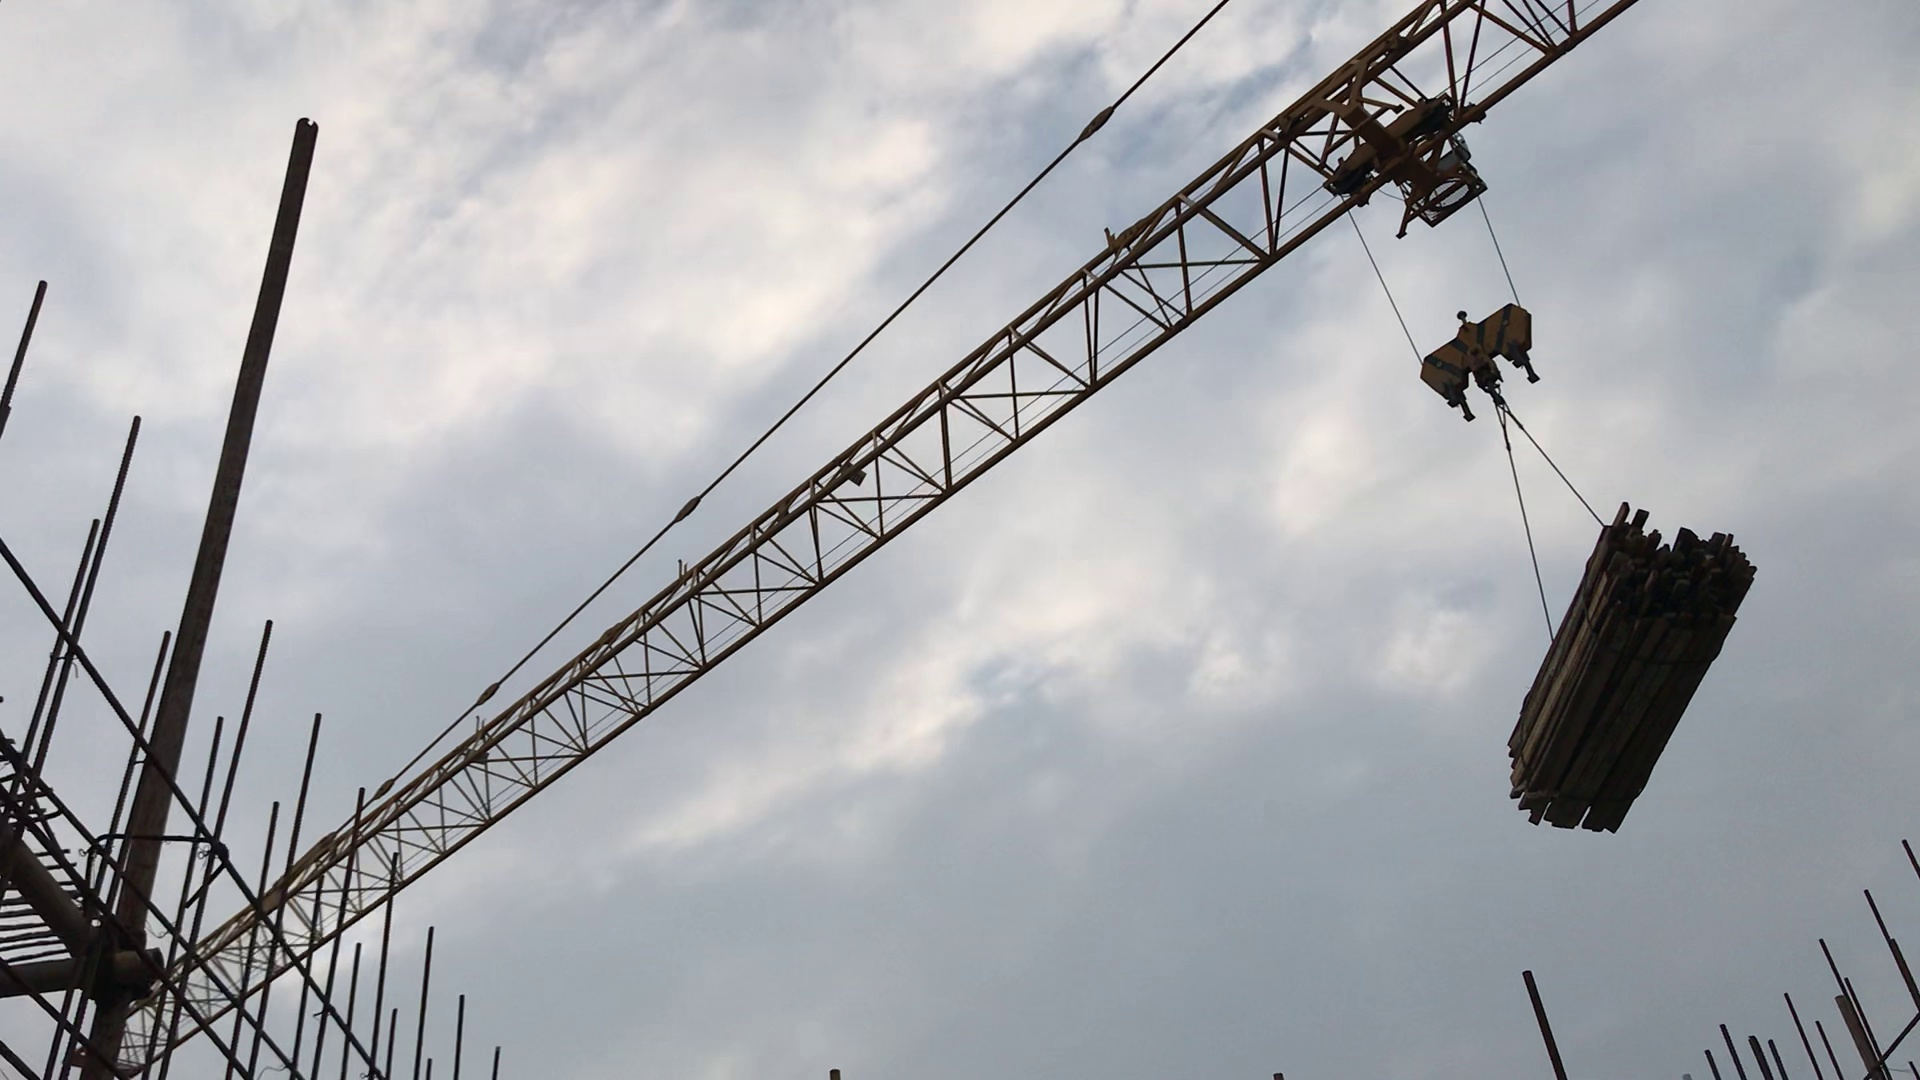hook: (1418, 274, 1542, 446)
wood: (1497, 501, 1764, 844)
